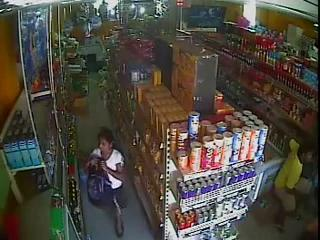Normal: (84, 128, 128, 238), (273, 138, 303, 192)
